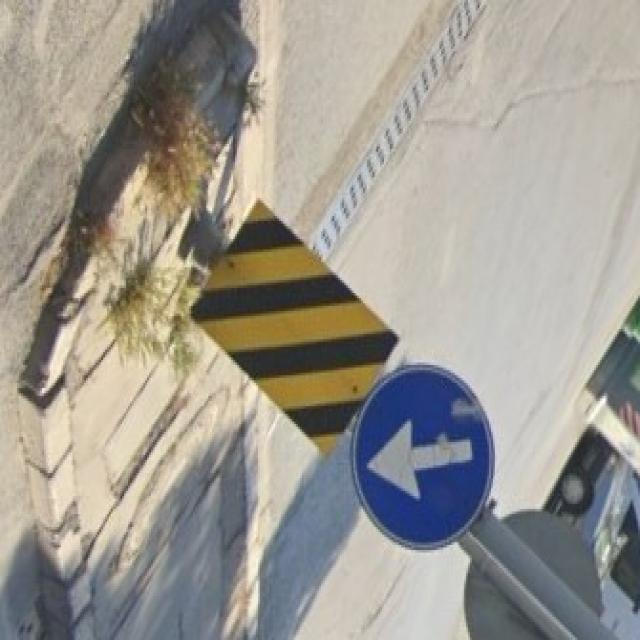Turn Left: (350, 371, 504, 551)
